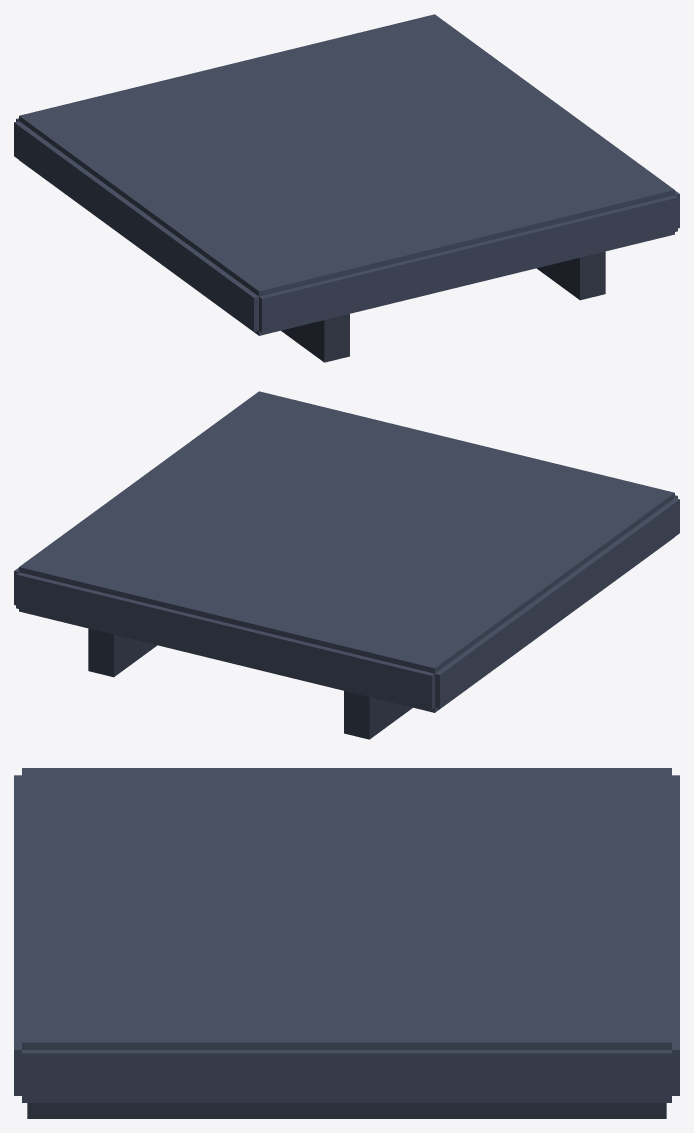
Rendered from granite_platform_v0.glb.
3 renders of one model, top to bottom at view 1: azimuth 30°, elevation 25°; view 2: azimuth 150°, elevation 25°; view 3: azimuth 270°, elevation 25°, orthographic. The views are drawn at different scales.
Visible parts, largest first — view 1: granite_platform_v0; view 2: granite_platform_v0; view 3: granite_platform_v0.
Part boxes in pixels (bbox=[...]): granite_platform_v0: bbox=[14, 14, 679, 362]; granite_platform_v0: bbox=[14, 391, 679, 739]; granite_platform_v0: bbox=[14, 768, 679, 1118].
Bounding box in the file's own units: 1 × 0.2 × 1.
